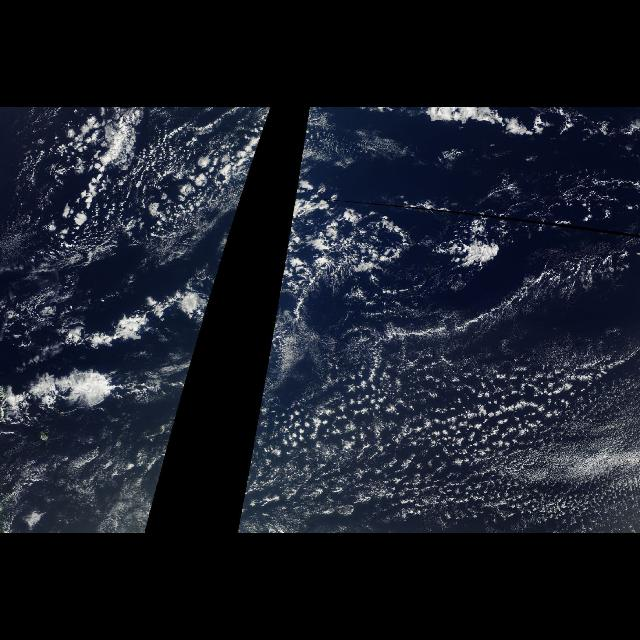Flower: (269, 372, 635, 528)
Gravel: (276, 158, 638, 532), (120, 160, 256, 296)
Sugar: (2, 406, 180, 532)
